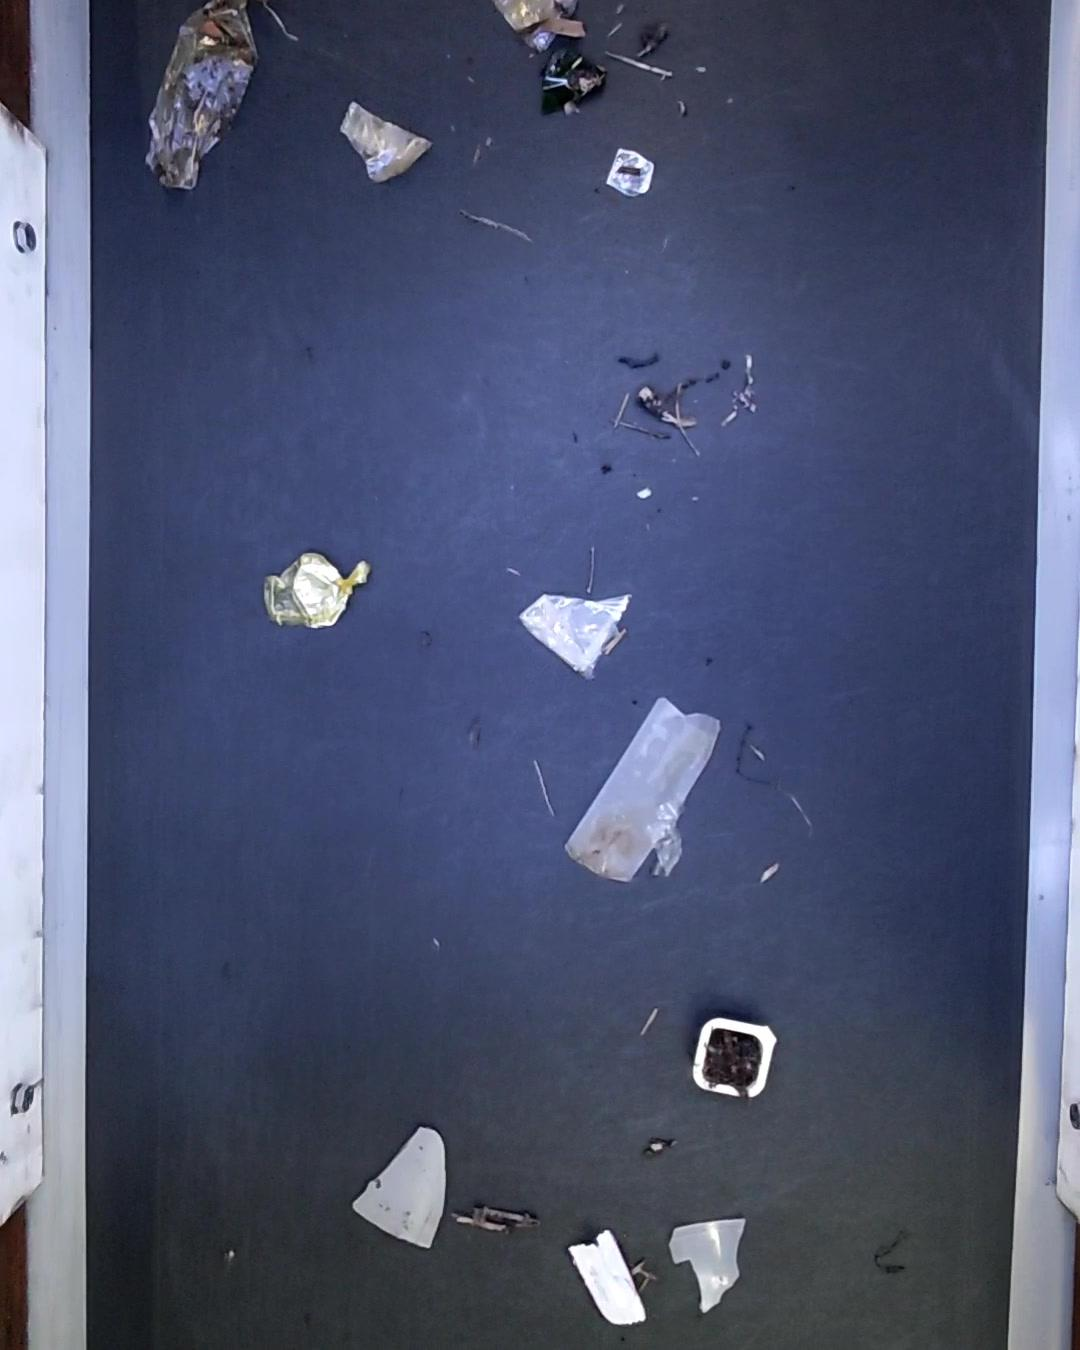Plastic folies of stukken daarvan 2.5- 50 cm: (561, 696, 722, 887), (147, 0, 261, 188), (516, 586, 631, 671), (334, 104, 433, 188)
Snoep snack en chips verpakkingen: (260, 544, 367, 633)
Voedselverpakkingen: (683, 1020, 777, 1101)
